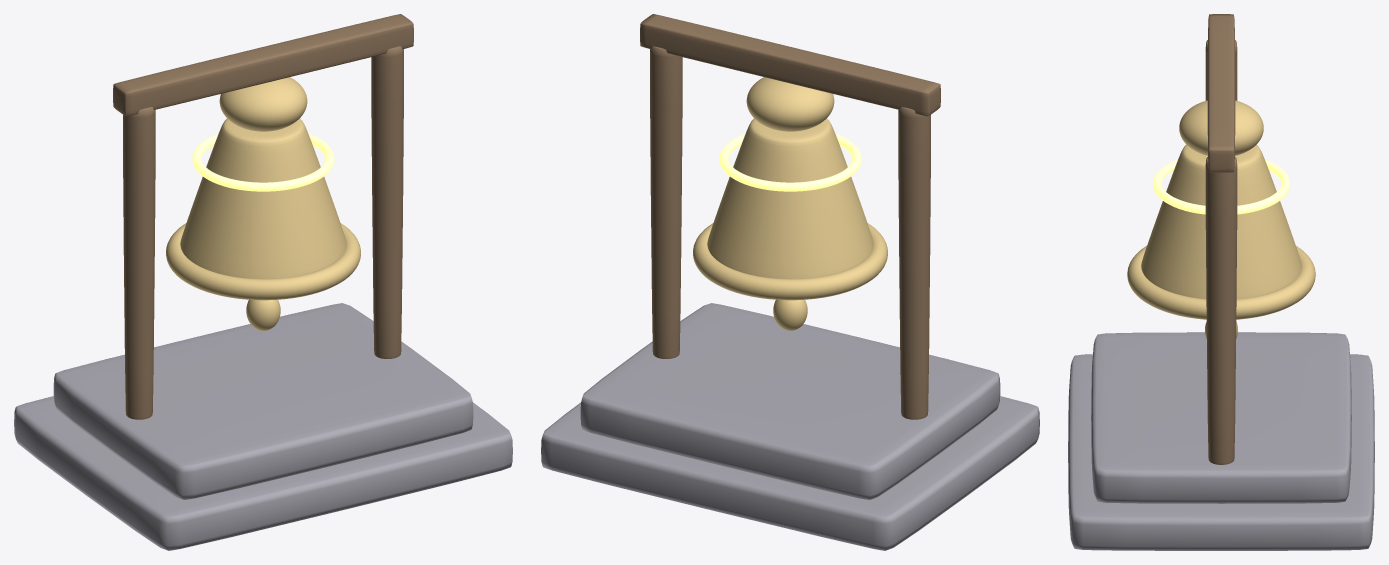
File: sanctuary_bell.glb
The picture shows the model from 3 angles, left to right: view 1: azimuth 30°, elevation 25°; view 2: azimuth 150°, elevation 25°; view 3: azimuth 270°, elevation 25°; orthographic projection. The views are drawn at different scales.
Parts seen in each view (by area): view 1: plinth_step1, frame_post_0, bell_skirt, bell_lip, bell_crown, bell_runeband, clapper_ball; view 2: plinth_step1, frame_post_0, bell_skirt, bell_lip, bell_crown, bell_runeband, clapper_ball; view 3: plinth_step1, frame_post_0, bell_skirt, bell_lip, bell_crown, bell_runeband.
Part boxes in pixels (<box>): plinth_step1: <box>14,303,512,550</box>; frame_post_0: <box>113,14,413,419</box>; bell_skirt: <box>180,118,346,278</box>; bell_lip: <box>166,223,360,300</box>; bell_crown: <box>219,77,307,131</box>; bell_runeband: <box>192,133,334,191</box>; clapper_ball: <box>246,299,280,330</box>; plinth_step1: <box>541,303,1039,550</box>; frame_post_0: <box>640,14,940,419</box>; bell_skirt: <box>707,118,873,278</box>; bell_lip: <box>693,223,887,300</box>; bell_crown: <box>746,77,834,131</box>; bell_runeband: <box>719,133,861,191</box>; clapper_ball: <box>773,299,807,330</box>; plinth_step1: <box>1068,332,1374,550</box>; frame_post_0: <box>1205,14,1237,464</box>; bell_skirt: <box>1141,144,1301,299</box>; bell_lip: <box>1127,246,1315,319</box>; bell_crown: <box>1179,100,1263,155</box>; bell_runeband: <box>1153,159,1289,214</box>.
Bounding box in the file's own units: 2.59 × 2.79 × 2.
